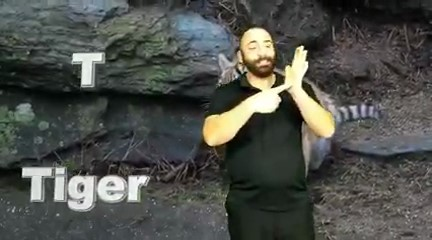T: (242, 45, 312, 114)
